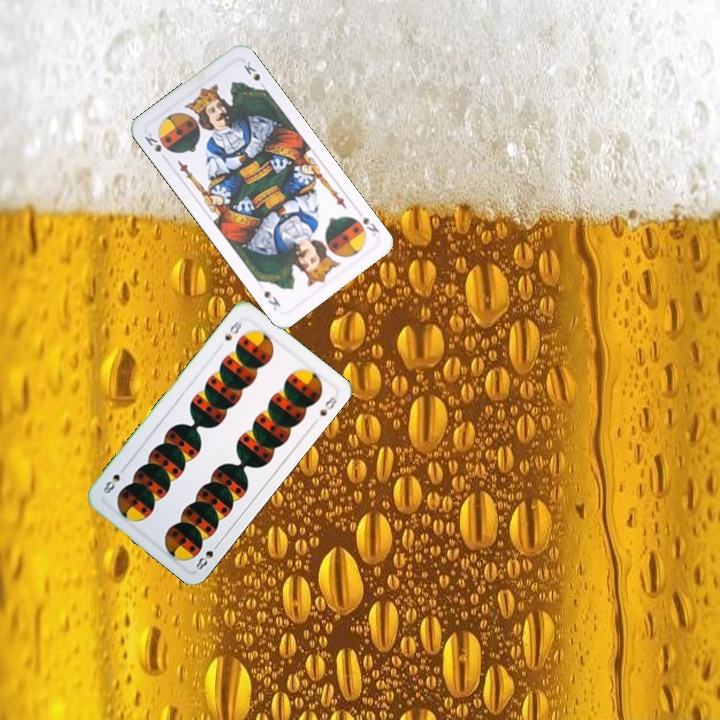S8: (191, 538, 223, 573), (220, 317, 244, 343)
SK: (140, 128, 170, 164), (359, 213, 382, 239)
